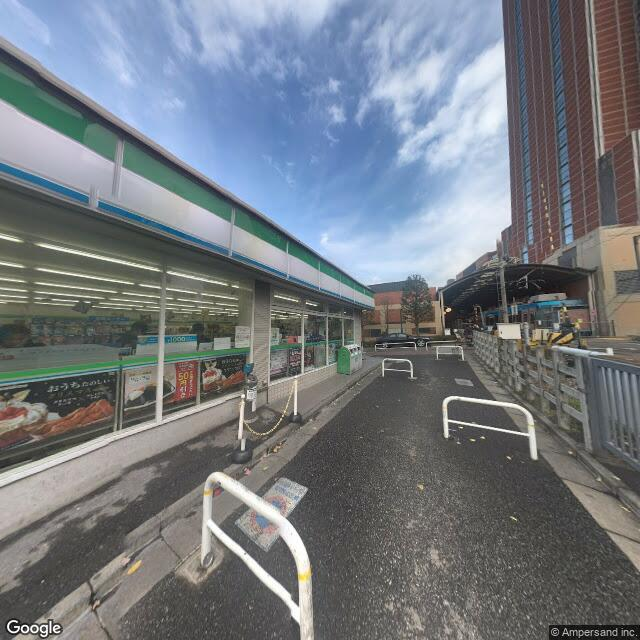family_mart: (1, 60, 376, 311)
